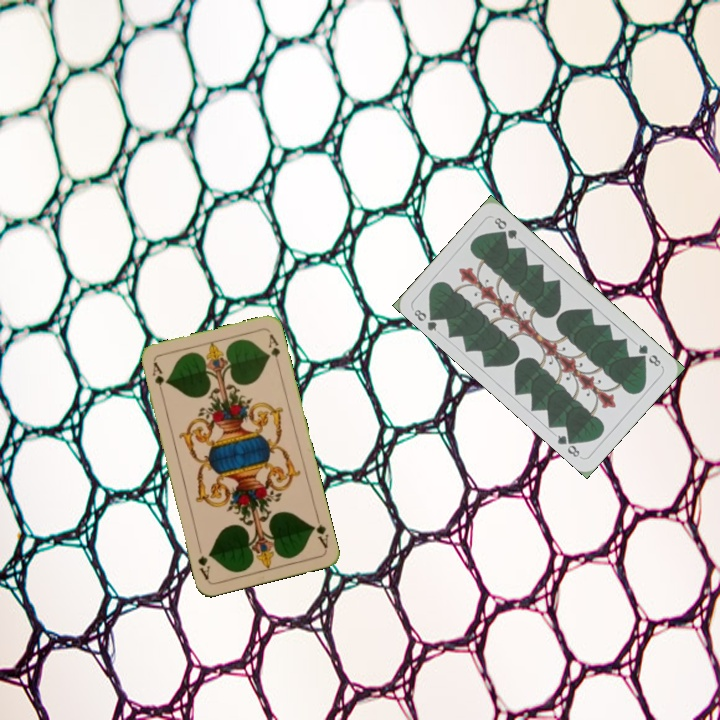G8: (410, 305, 441, 334), (634, 340, 664, 369)
GA: (308, 511, 331, 551), (148, 358, 167, 398)
